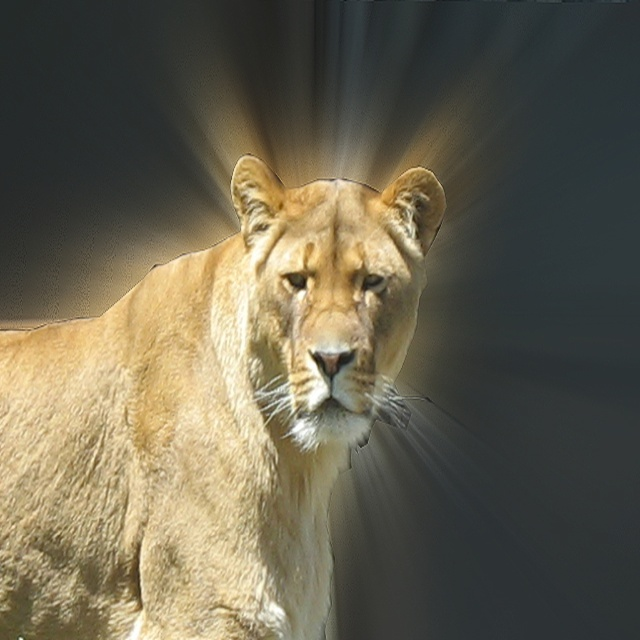Lion: (0, 151, 448, 639)
